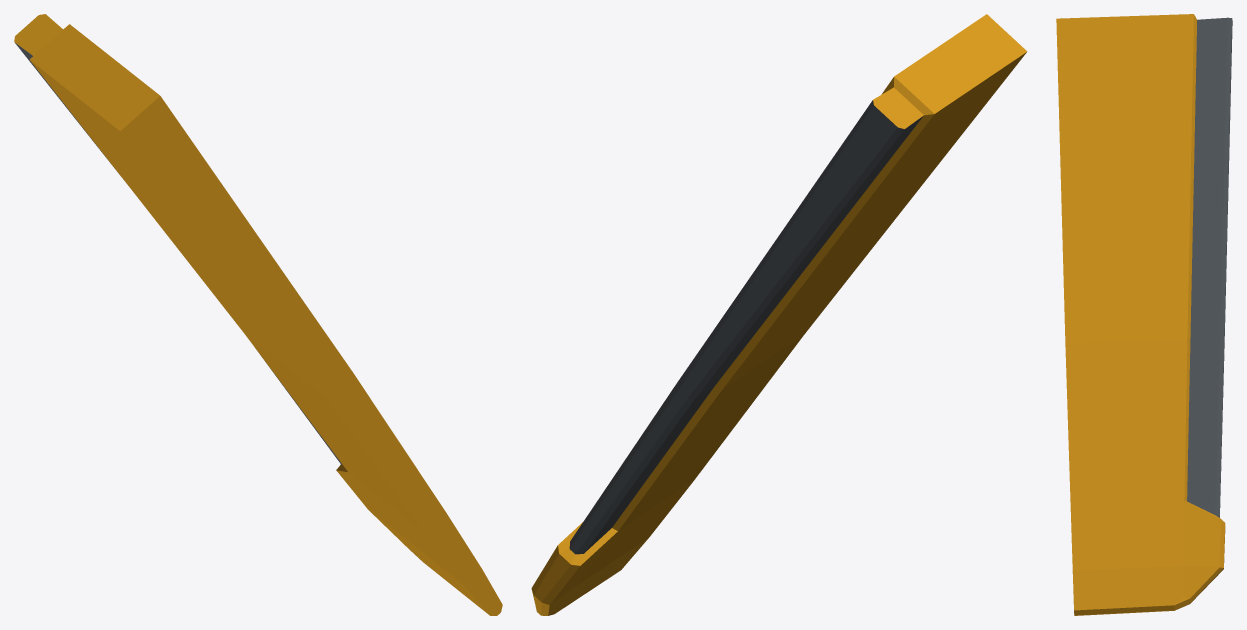
The model's file is Fighter_06_Auxillary_Wing_Left_Yellow.fbx.
3 views of the same model, side by side, from view 1: azimuth 30°, elevation 25°; view 2: azimuth 150°, elevation 25°; view 3: azimuth 270°, elevation 25° (orthographic). The views are drawn at different scales.
Visible parts, largest first — view 1: Fighter_06_Auxillary_Wing_Left_Yellow; view 2: Fighter_06_Auxillary_Wing_Left_Yellow; view 3: Fighter_06_Auxillary_Wing_Left_Yellow.
Boxes of the visible parts, <box> form: Fighter_06_Auxillary_Wing_Left_Yellow: <box>14,14,502,615</box>; Fighter_06_Auxillary_Wing_Left_Yellow: <box>531,14,1027,615</box>; Fighter_06_Auxillary_Wing_Left_Yellow: <box>1056,14,1232,615</box>.
Size of the model in its own units: 276 by 414 by 140.
1 material, 1 textured.
